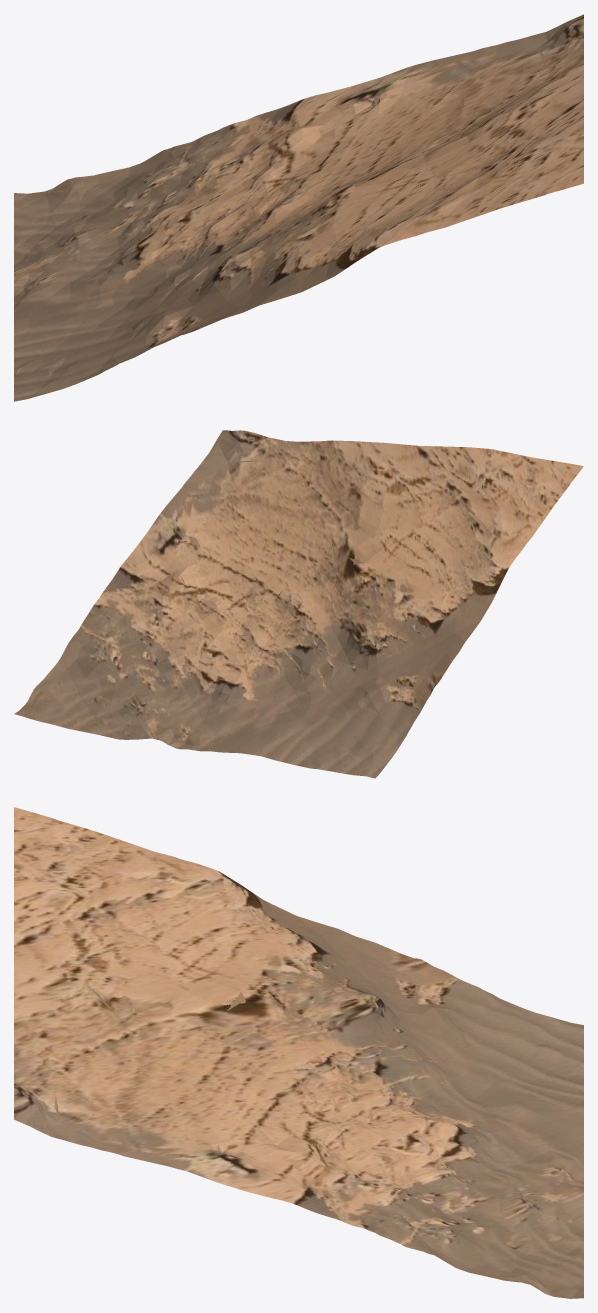
The picture shows the model from 3 angles, top to bottom: view 1: azimuth 90°, elevation 25°; view 2: azimuth 150°, elevation 25°; view 3: azimuth 270°, elevation 25°; orthographic projection. The views are drawn at different scales.
Size of the model in its own units: 1.04 by 0.5103 by 1.04.
Materials: 3 (3 with a texture image).
